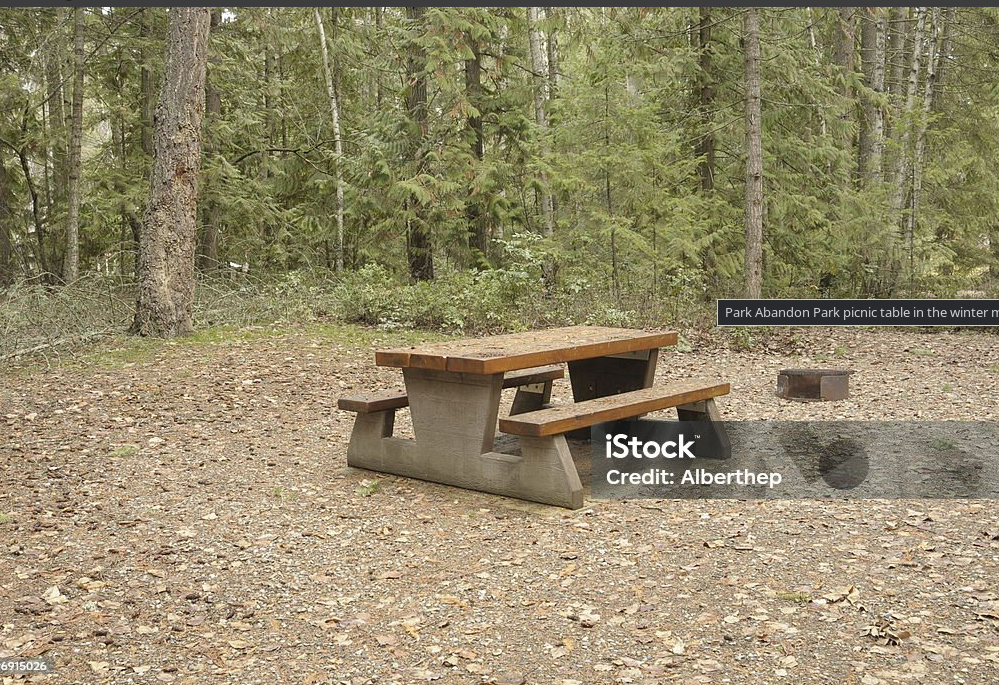obstacle: (339, 320, 734, 512)
